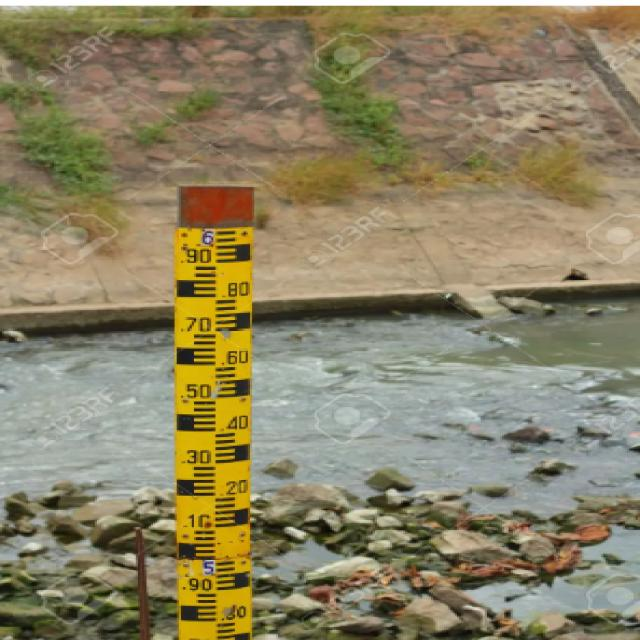ruler: (163, 221, 274, 636)
value: (175, 382, 217, 402), (175, 314, 216, 334), (177, 512, 217, 532), (175, 448, 216, 467), (215, 347, 253, 367), (176, 247, 216, 265), (218, 280, 254, 299), (218, 602, 254, 621), (215, 414, 252, 432), (216, 479, 252, 497), (178, 578, 218, 594), (200, 228, 217, 248), (201, 559, 218, 573)
